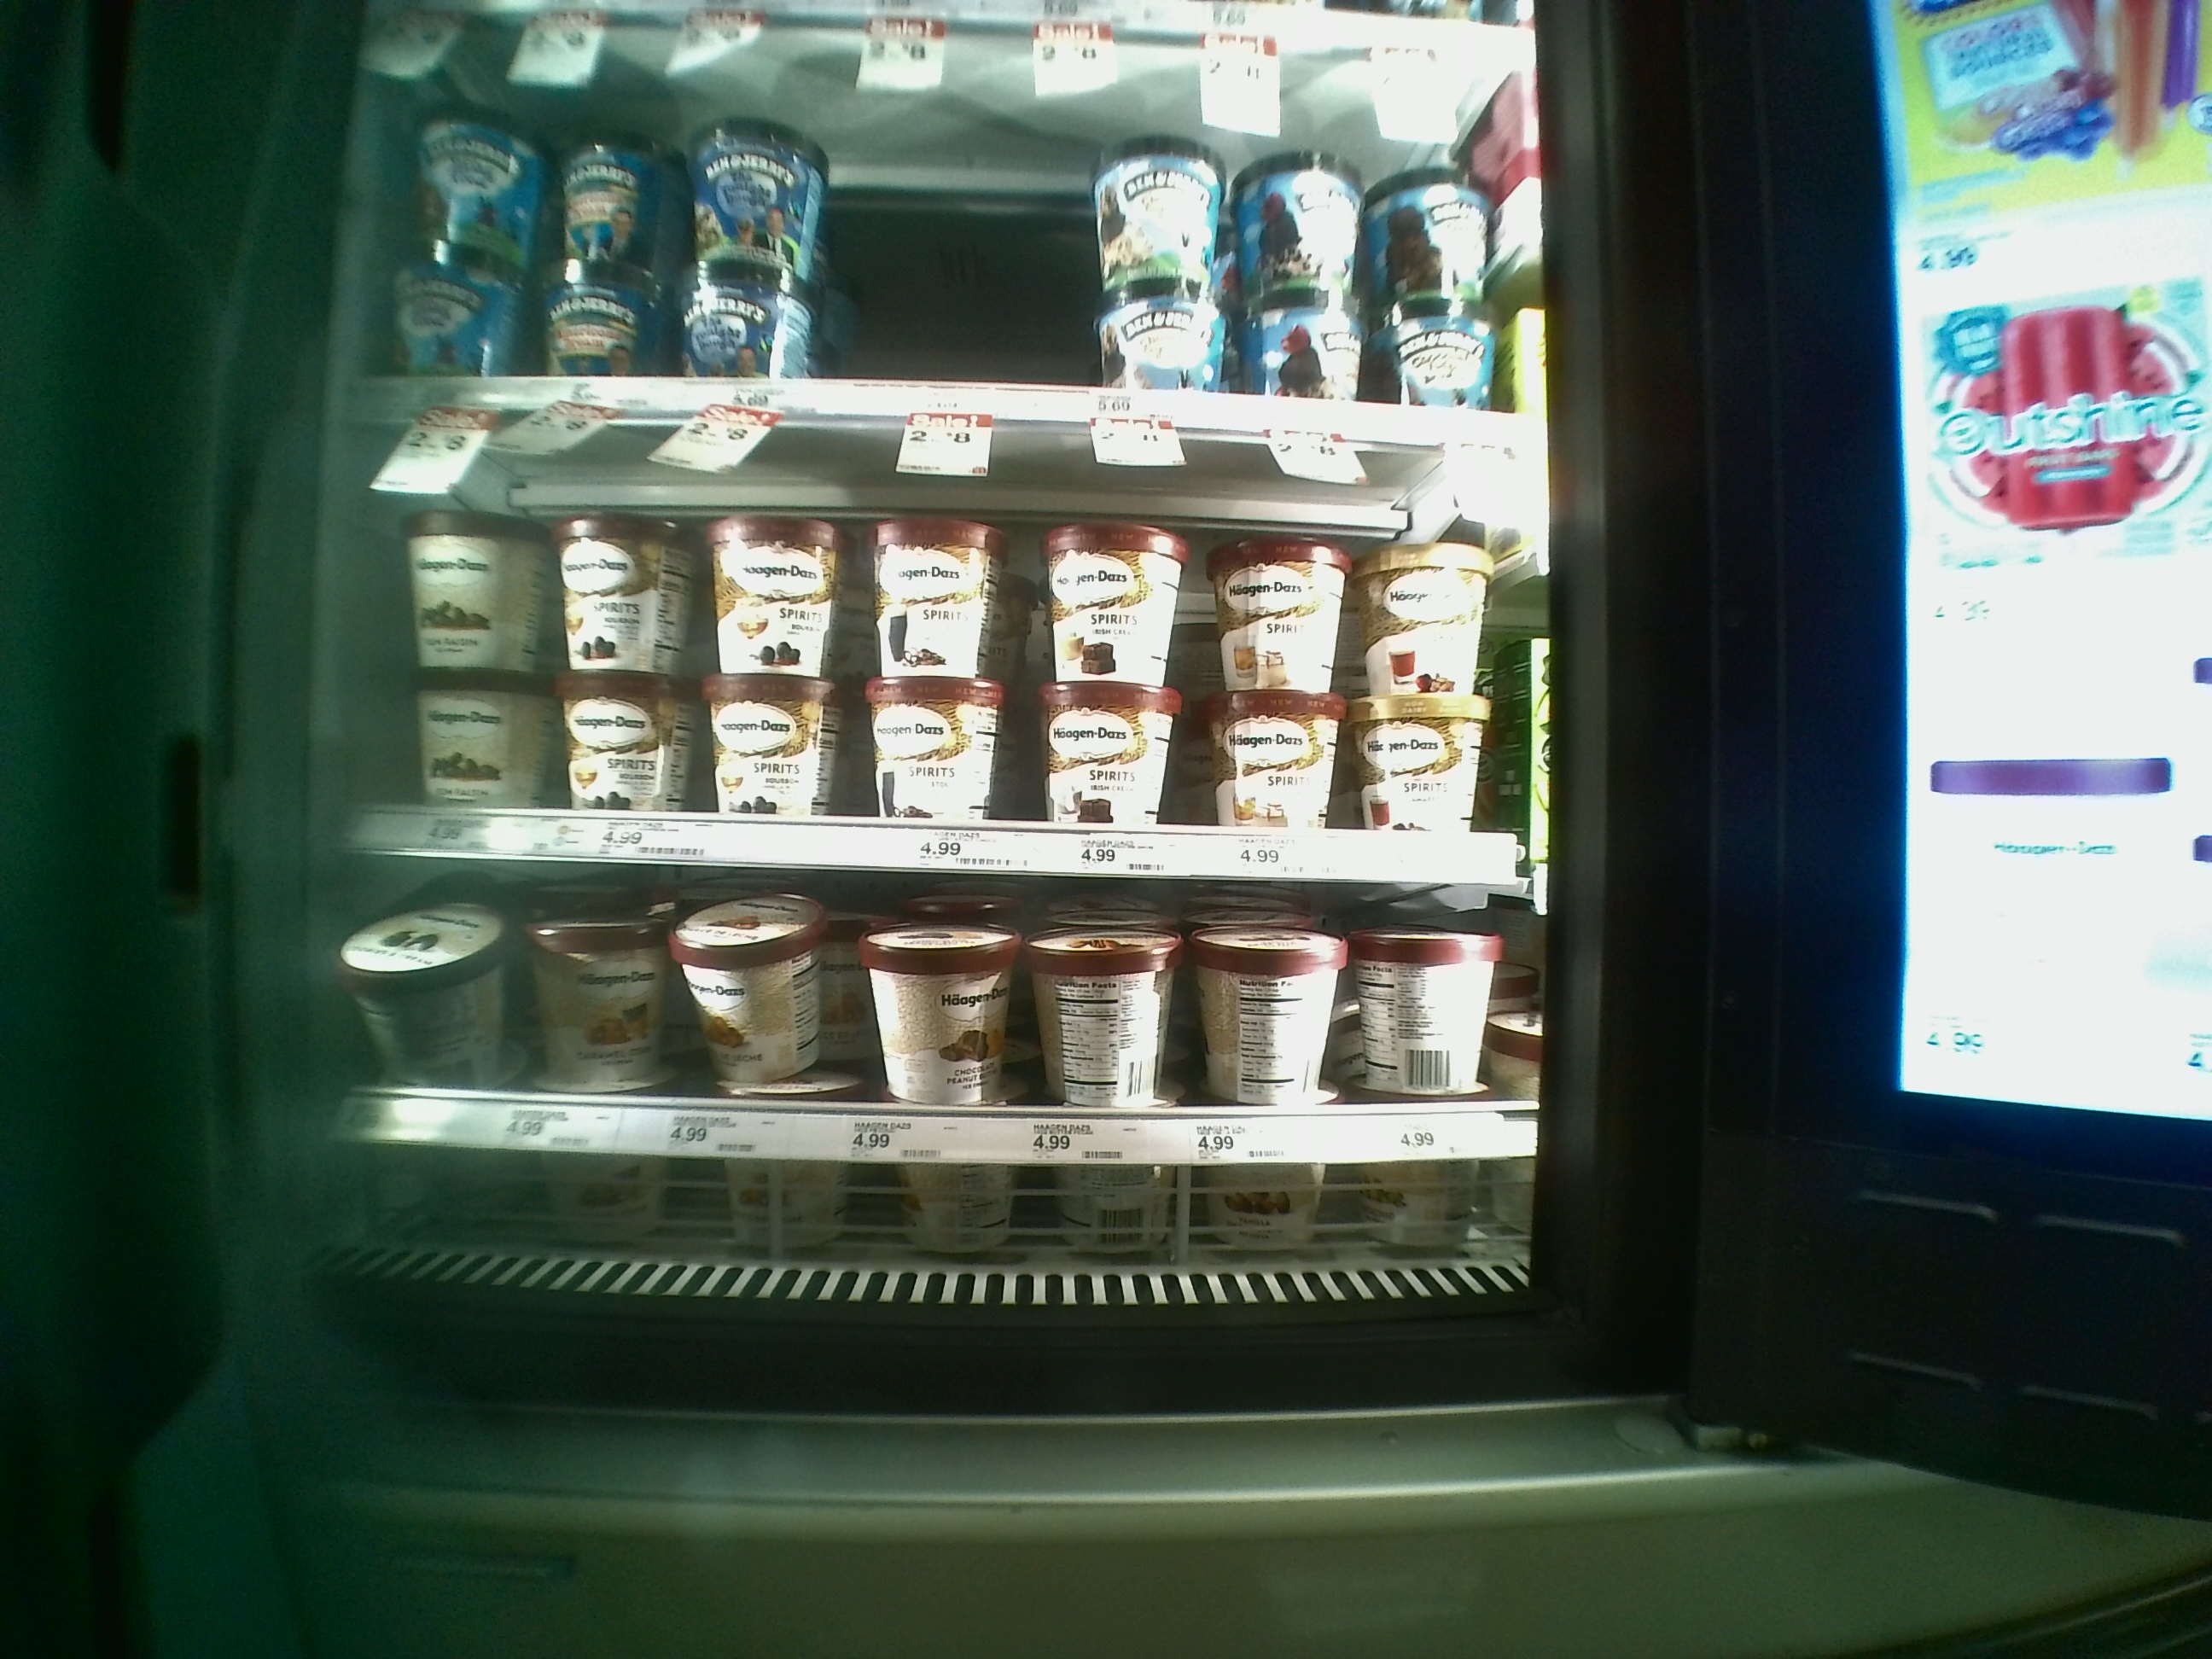shelf: (369, 416, 1554, 870), (359, 868, 1548, 1166)
